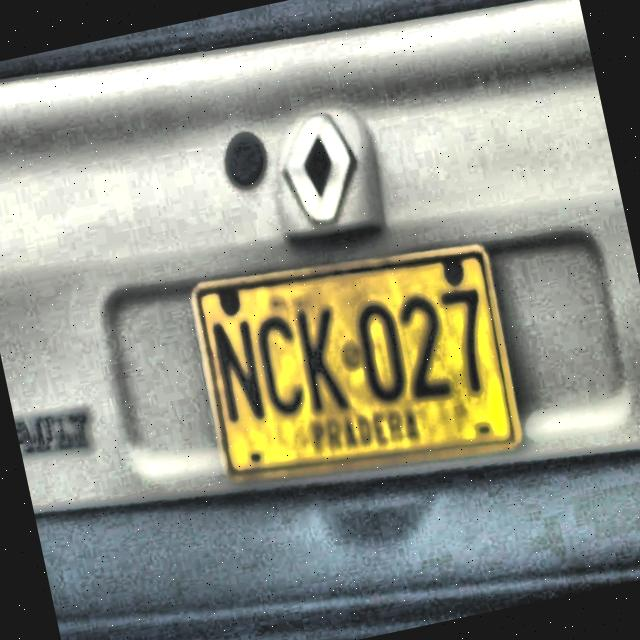plate: (191, 244, 524, 484)
